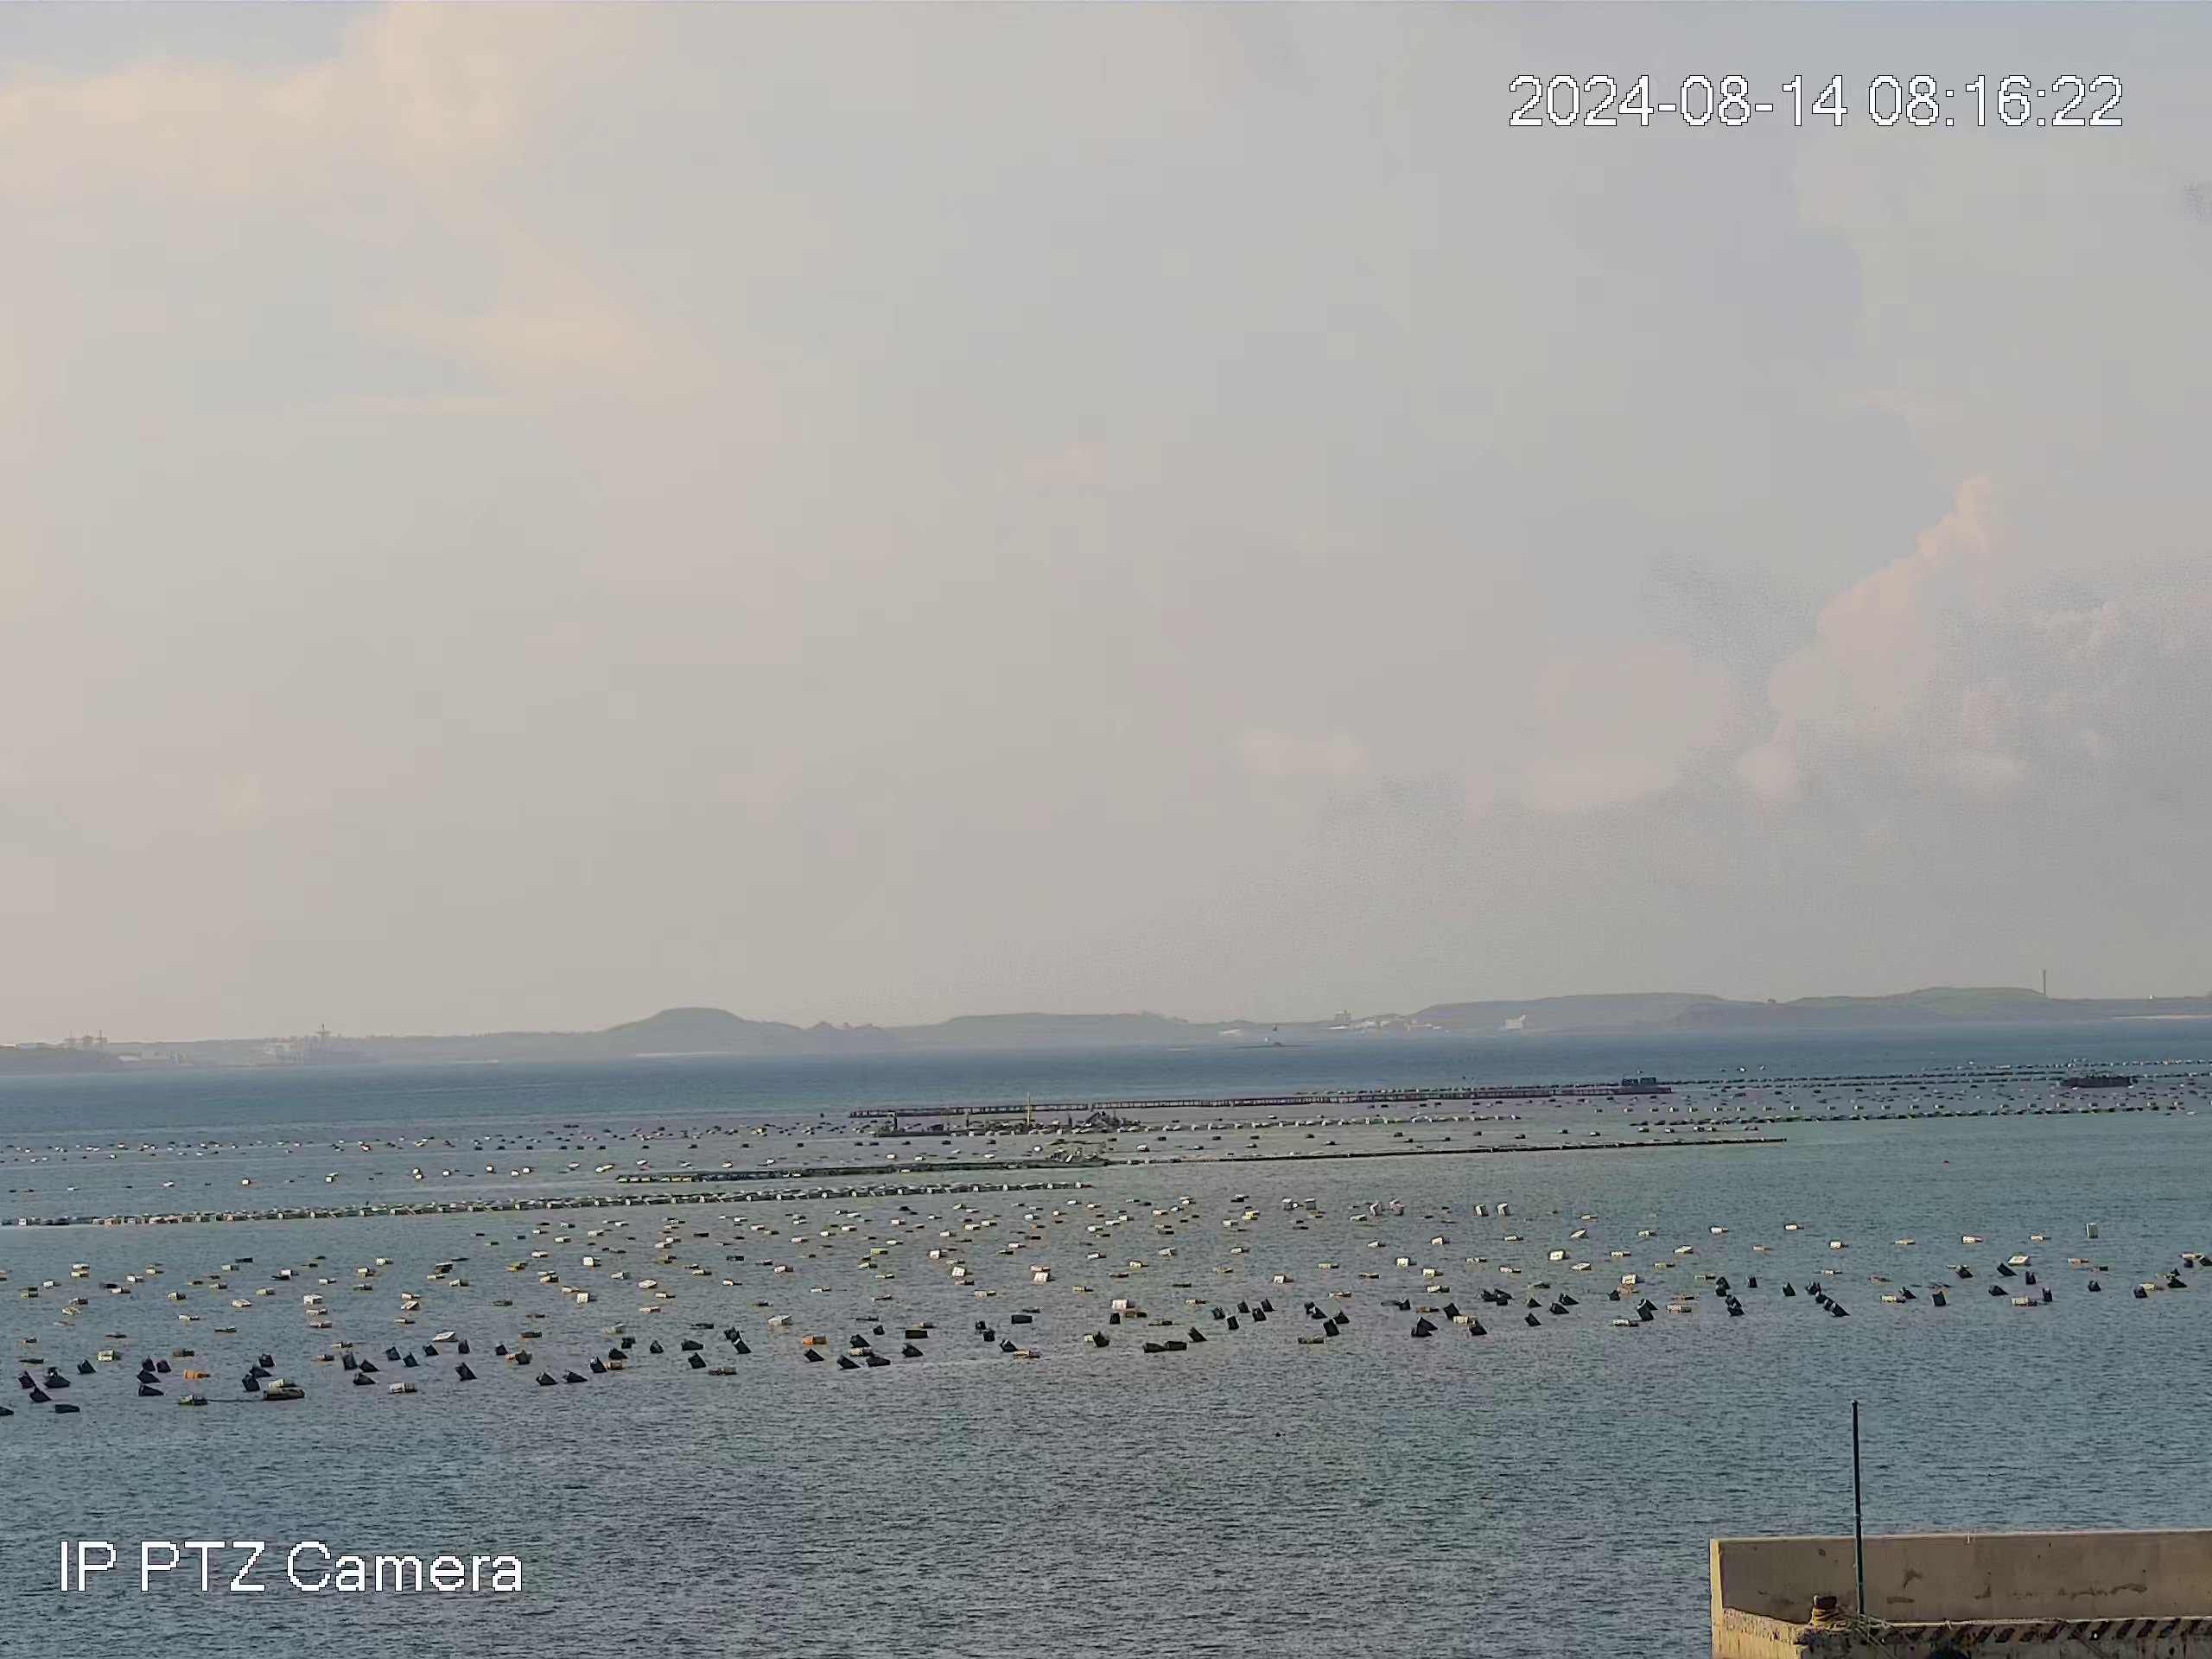boat: (2055, 1063, 2135, 1093), (1043, 1140, 1109, 1168), (867, 1114, 907, 1138)
